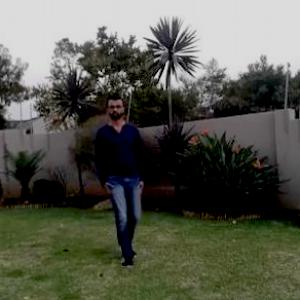follow: (102, 101, 146, 250)
